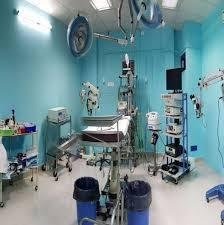bed: (71, 107, 130, 180)
bin: (70, 176, 101, 225), (126, 178, 154, 225)
tools_table: (0, 111, 42, 202)
